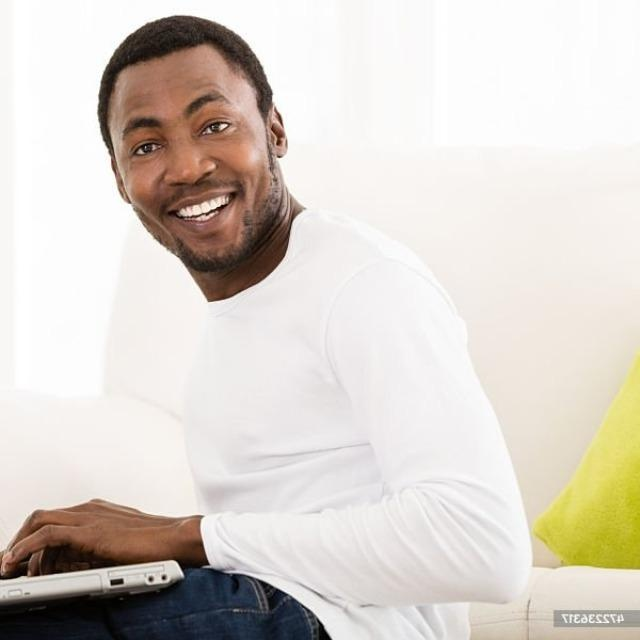Sin_Casco_Mascarrilla: (92, 15, 289, 264)
